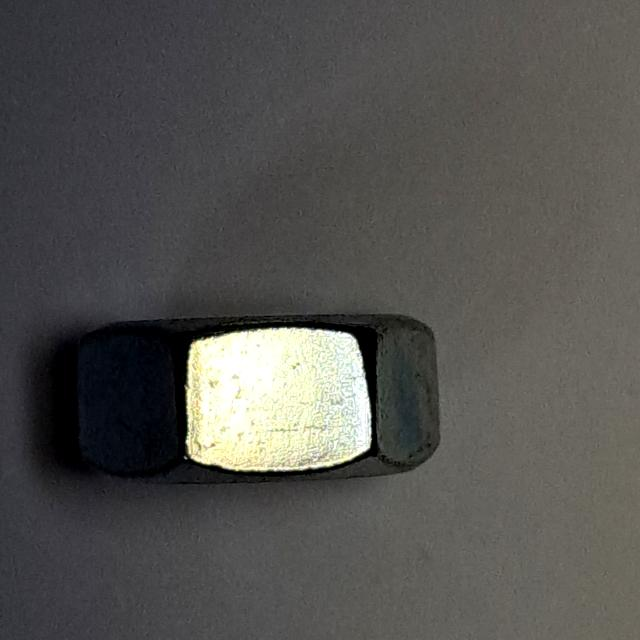Side_Excellent: (68, 301, 450, 502)
